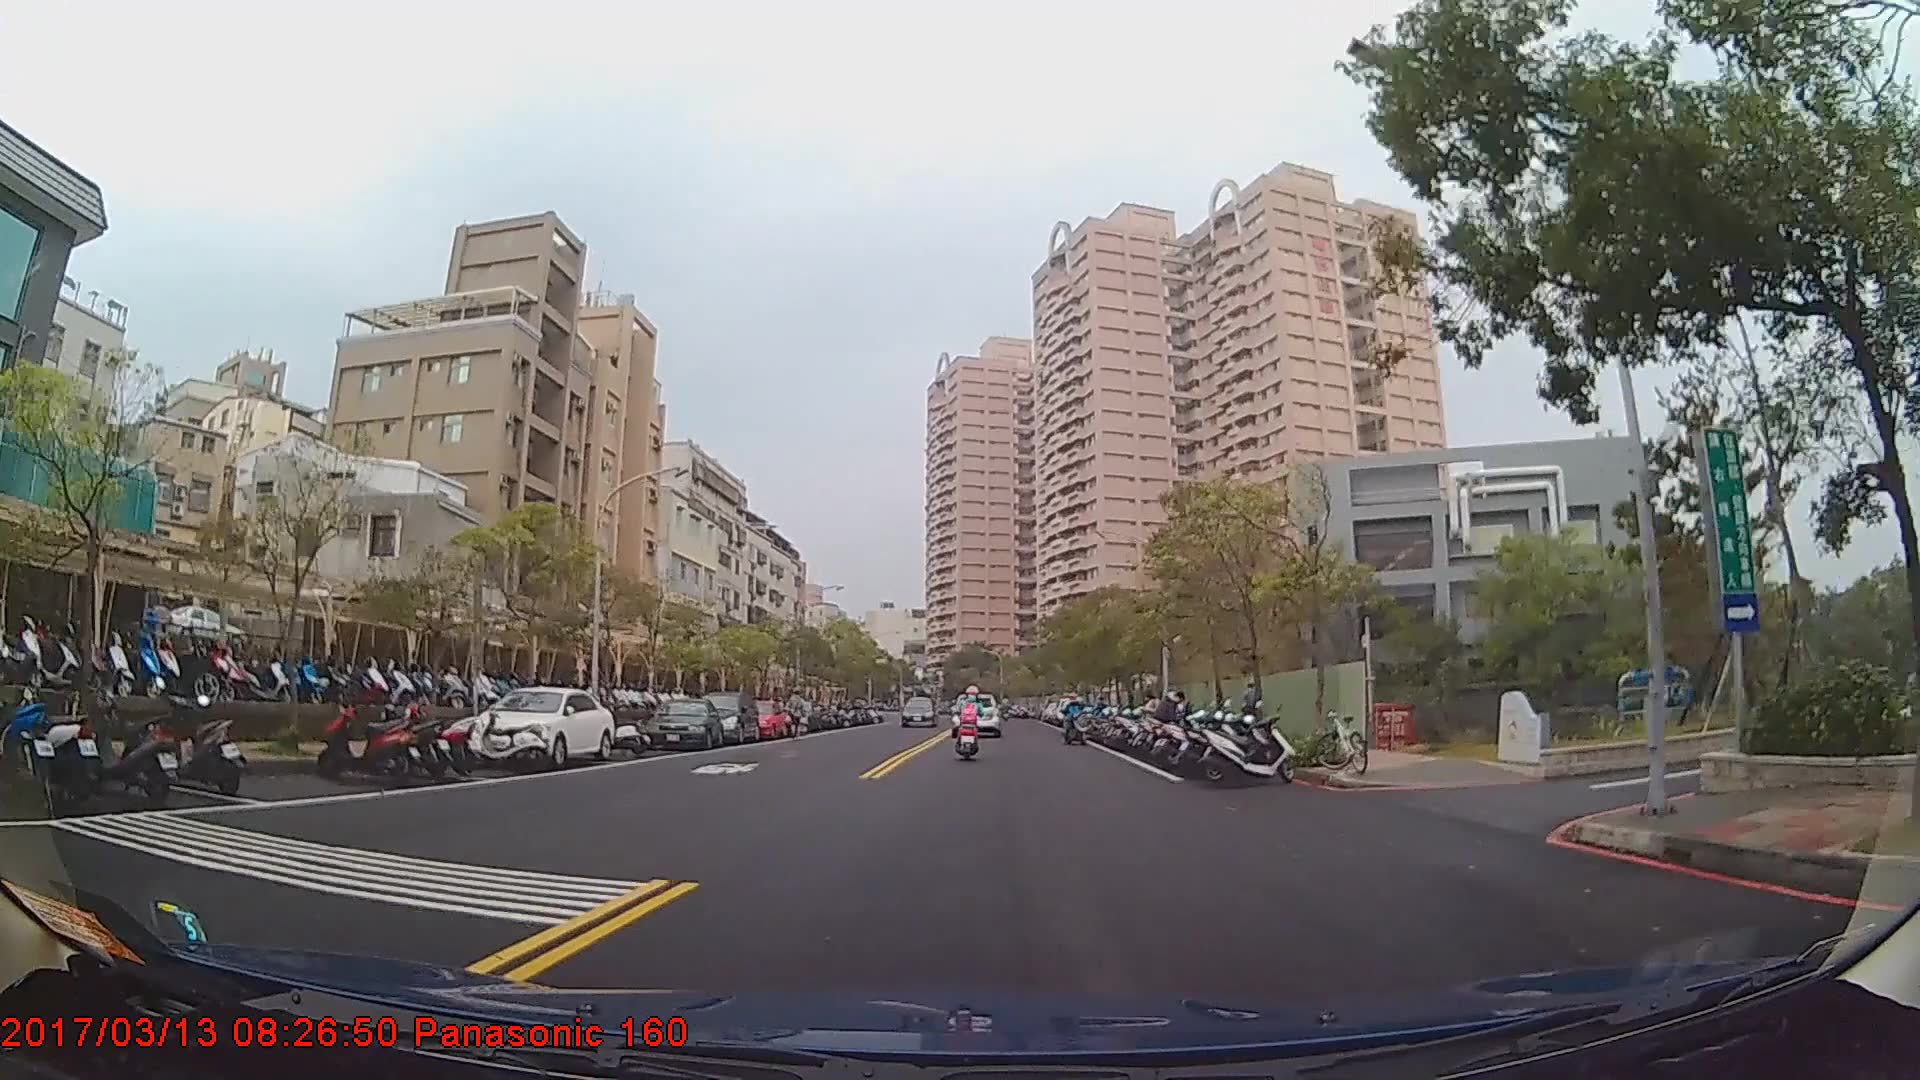pedestrian: (1154, 688, 1189, 751), (1240, 680, 1266, 734), (786, 690, 812, 743)
rider: (956, 686, 986, 757), (1063, 689, 1088, 742)
vehicle: (472, 685, 615, 767), (644, 697, 722, 751), (694, 689, 758, 743), (731, 698, 788, 742), (950, 687, 1001, 733), (901, 695, 933, 726)
